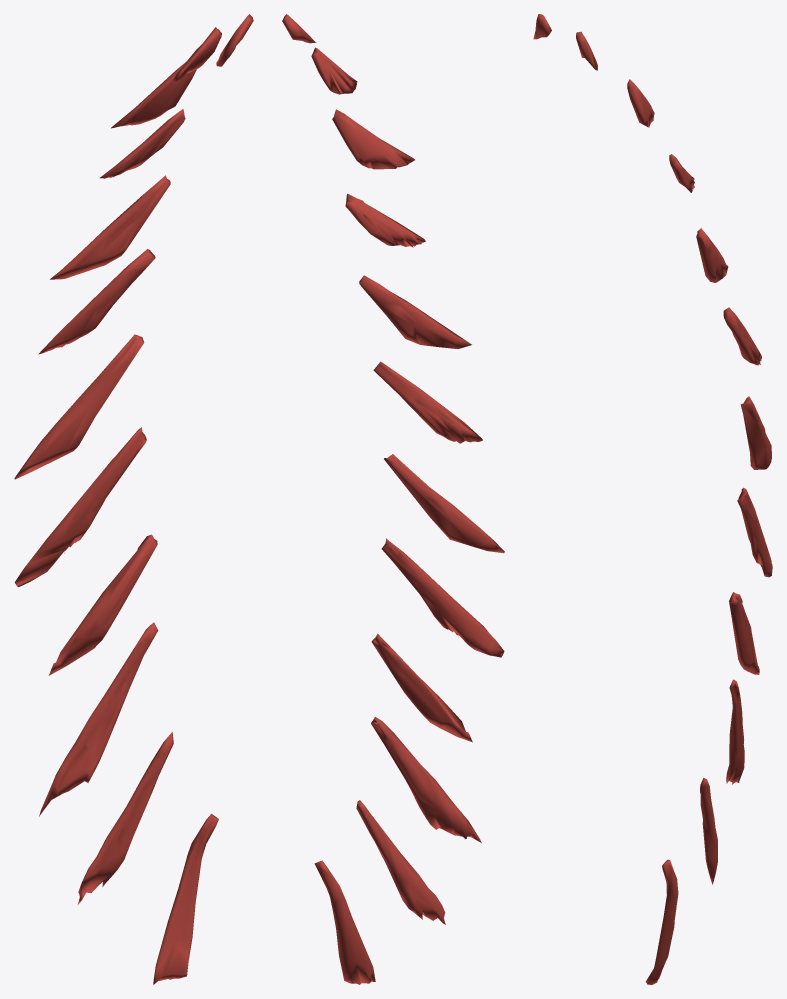
Rendered from musculos-levatores-breves-costarum-r.glb.
3 renders of one model, left to right at view 1: azimuth 30°, elevation 25°; view 2: azimuth 210°, elevation 25°; view 3: azimuth 270°, elevation 25°, orthographic. The views are drawn at different scales.
Visible parts, largest first — view 1: Levatores breves costarum.r; view 2: Levatores breves costarum.r; view 3: Levatores breves costarum.r.
Boxes of the visible parts, x1=… form: Levatores breves costarum.r: x1=14, y1=14, x2=253, y2=984; Levatores breves costarum.r: x1=282, y1=14, x2=504, y2=984; Levatores breves costarum.r: x1=533, y1=14, x2=772, y2=984.
Bounding box in the file's own units: 0.0507 × 0.3231 × 0.0717.
